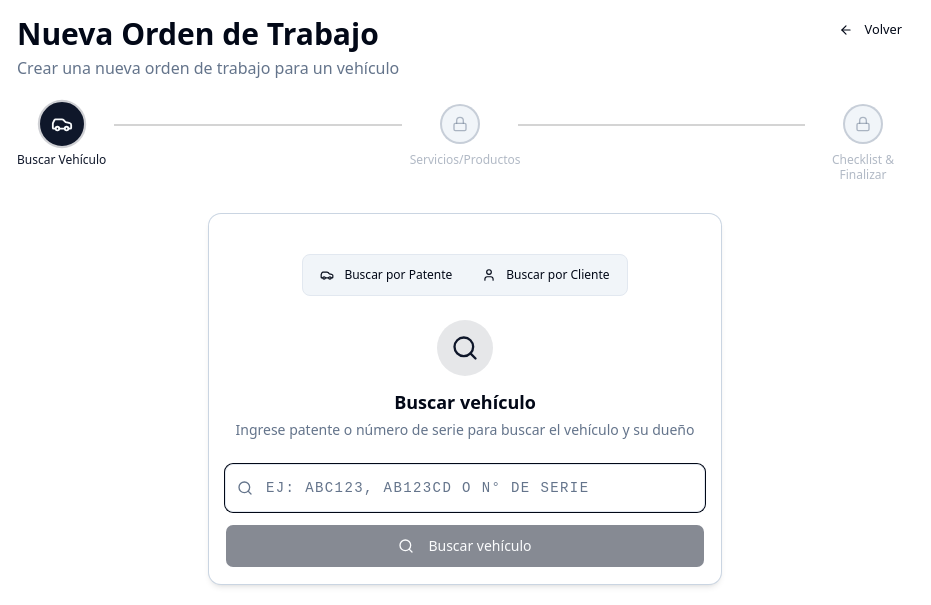
Test: NewWorkOrderPage - Vehicle History Integration › renders correctly and searches for vehicle and displays its history
// Type license plate
Type "AAA111" into the field with placeholder "Ej: ABC123, AB123CD o N° de serie" at [465, 488], box [225,464,705,512]
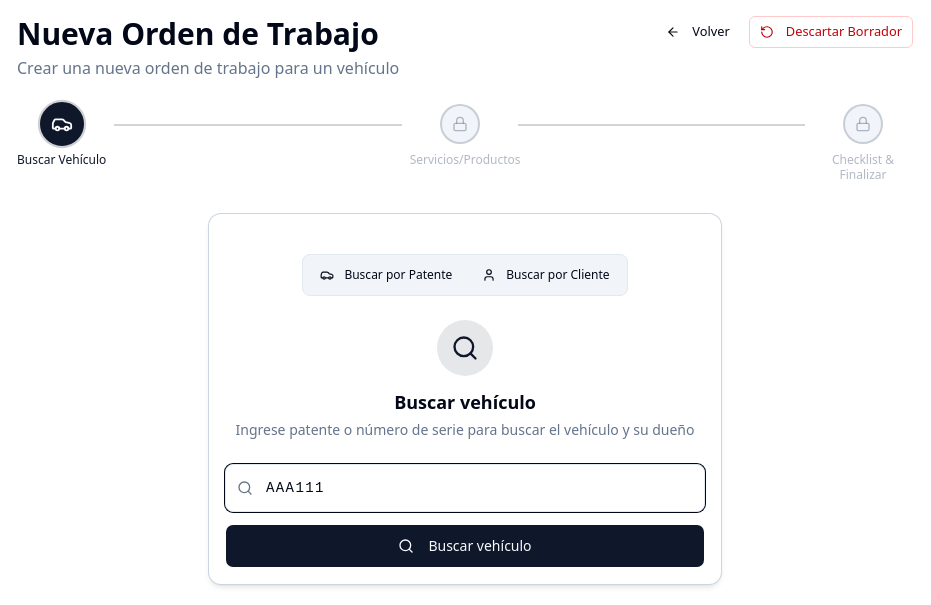
Click the button "Buscar vehículo" at [465, 546], box [225,524,705,568]
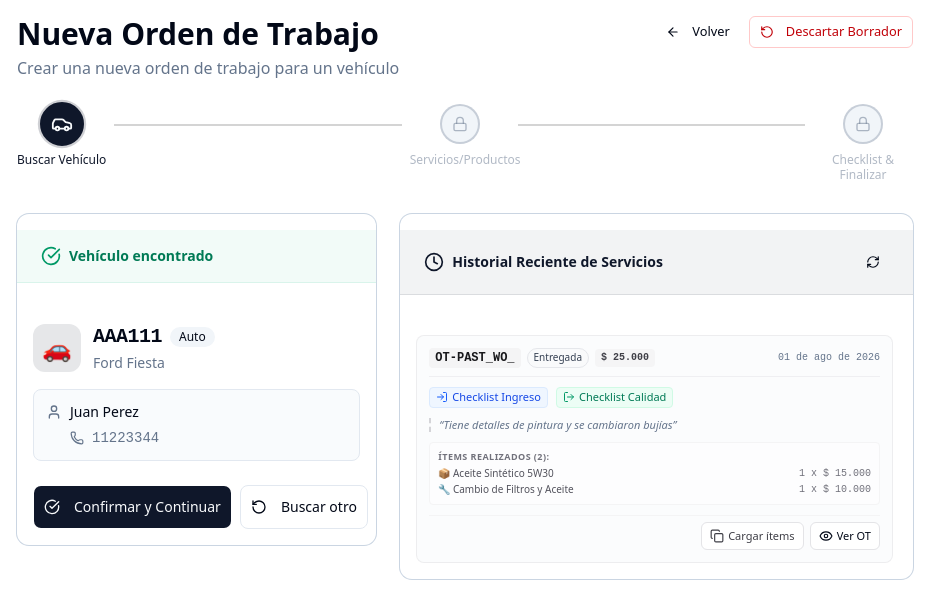
Check: the text "Vehículo encontrado" is shown, box [69,246,213,266]
Check: the text "Historial Reciente de Servicios" is shown, box [452,252,663,272]
Check: the text "OT-PAST_WO_" is shown, box [429,348,520,368]
